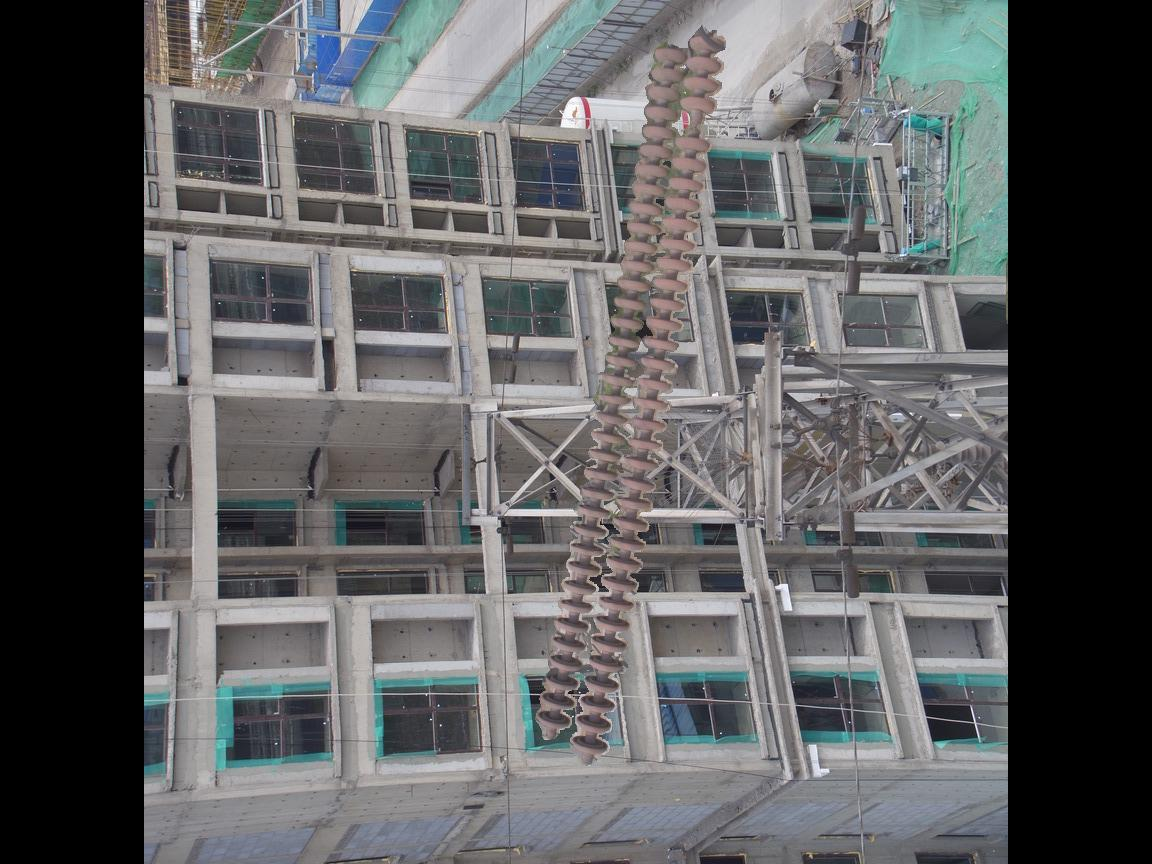insulator: (530, 21, 732, 769)
insulator_stringdrop: (670, 93, 717, 153)
